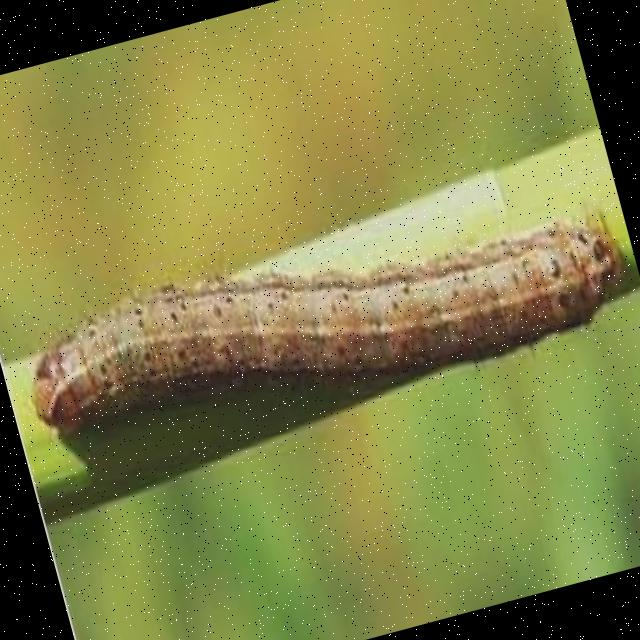worm: (11, 161, 640, 478)
